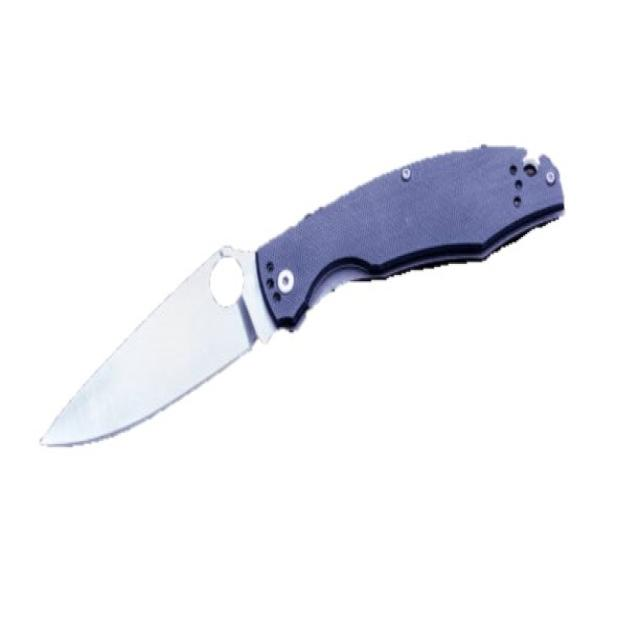knife: (37, 137, 572, 451)
